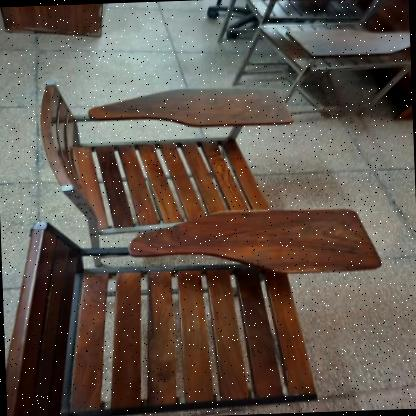chair: (0, 194, 387, 416), (23, 68, 312, 246)
